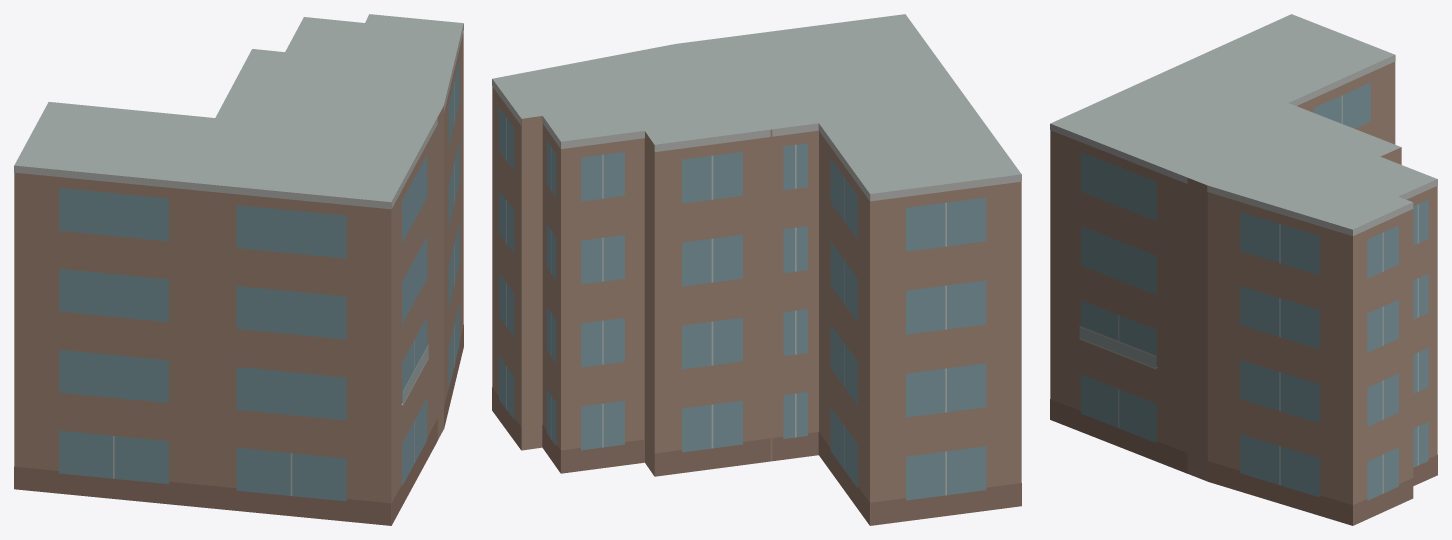
Rendered from survey-upis-32719970.glb.
The picture shows the model from 3 angles, left to right: view 1: azimuth 30°, elevation 25°; view 2: azimuth 150°, elevation 25°; view 3: azimuth 270°, elevation 25°; orthographic projection. The views are drawn at different scales.
Visible parts, largest first — view 1: survey-upis-32719970.tmp; view 2: survey-upis-32719970.tmp; view 3: survey-upis-32719970.tmp.
Part boxes in pixels (x1=…): survey-upis-32719970.tmp: x1=14, y1=14, x2=463, y2=525; survey-upis-32719970.tmp: x1=492, y1=14, x2=1021, y2=525; survey-upis-32719970.tmp: x1=1050, y1=14, x2=1437, y2=525.
Bounding box in the file's own units: 17.33 × 11.09 × 13.16.
